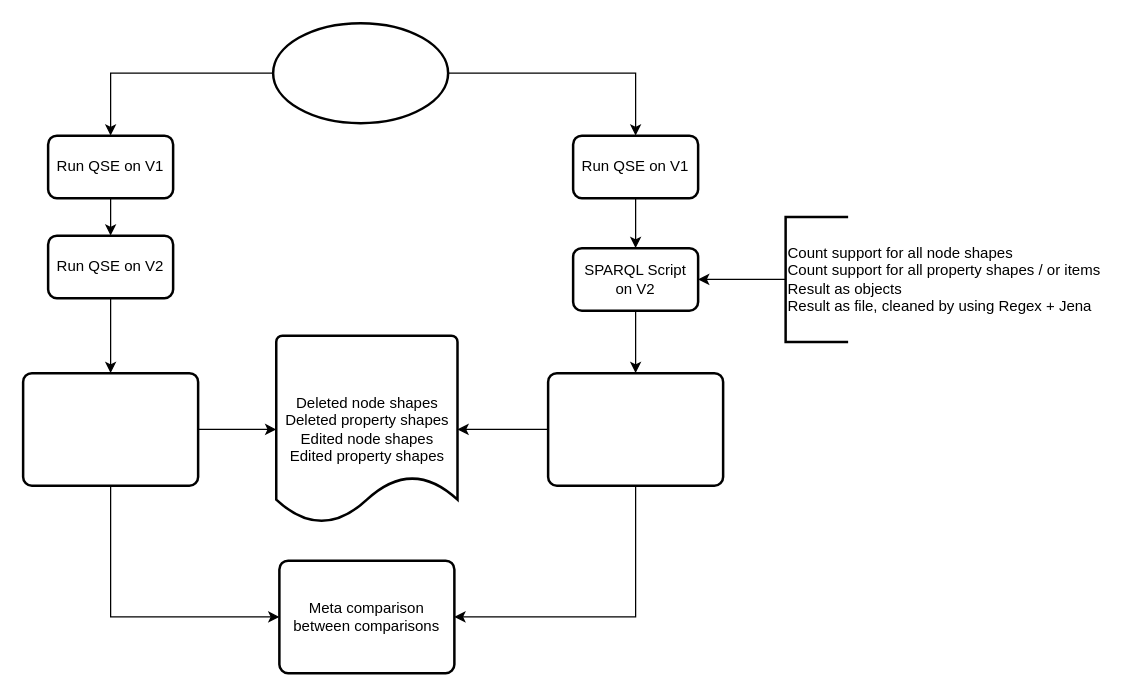
Some shapes in this 1121 by 695 pixel diagram are drawn without their labels. Here are the shapes that lost their labels. From the top down, the box of each, then its label:
(271, 21, 449, 124): RQ4 QSE-QueryBased
(21, 371, 199, 486): Compare QSE results with Regex-Logic used in Web app
(546, 371, 724, 486): Compare results by using objects and Regex-Logic used in Web app
